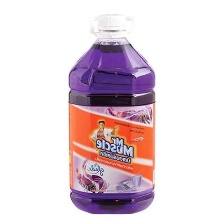cleaning_solution: (66, 12, 158, 216)
